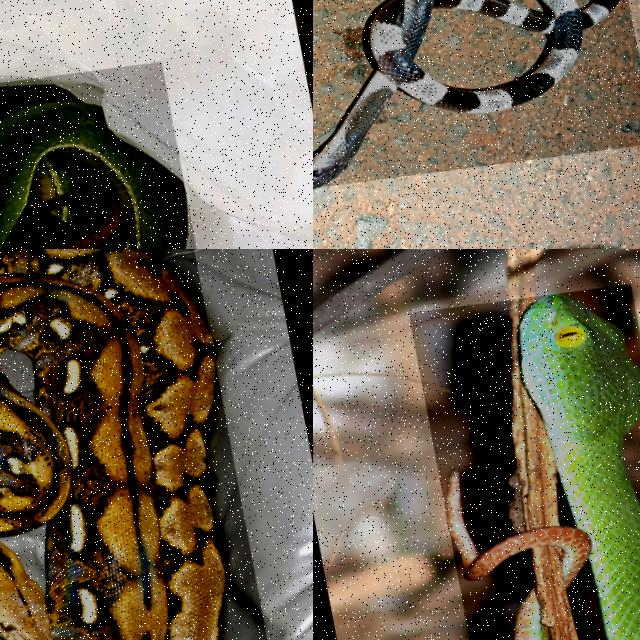Bungarus candidus: (313, 0, 619, 188)
Malayopython reticulatus: (0, 249, 224, 639)
Trimeresurus: (0, 84, 188, 248)
Trimeresurus macrops: (446, 295, 639, 639)
